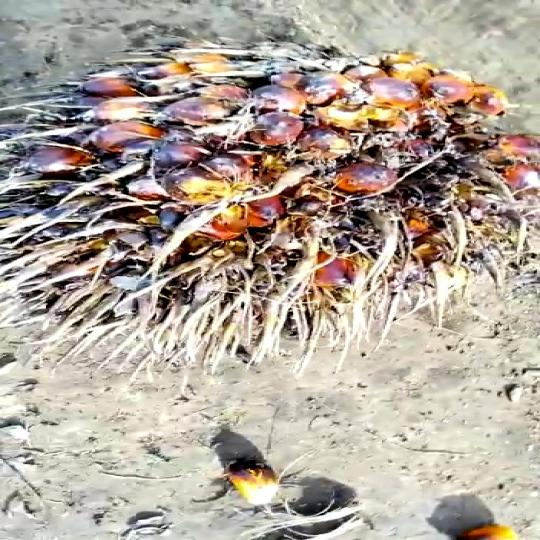terlalu masak: (0, 36, 540, 360)
